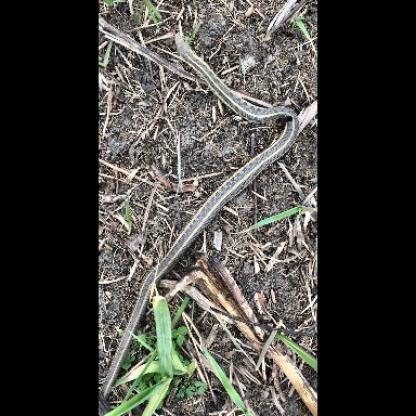Snake: (121, 164, 248, 306), (170, 31, 299, 155)
